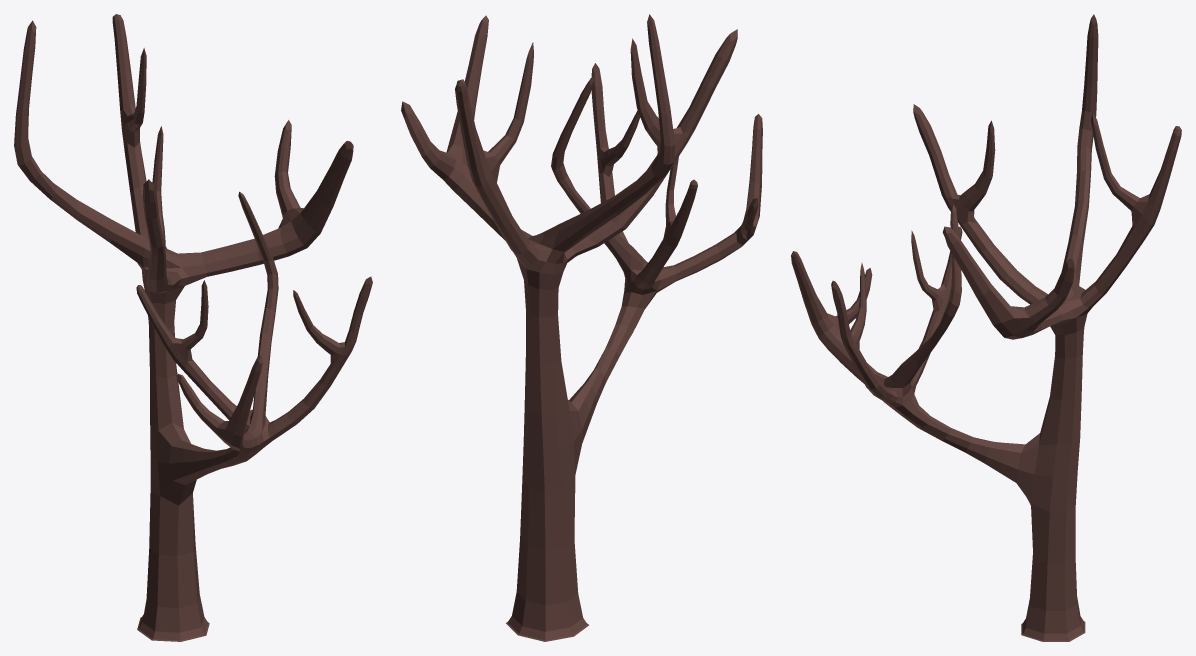
The model's file is CommonTree_Dead_2.gltf.
The picture shows the model from 3 angles, left to right: view 1: azimuth 30°, elevation 25°; view 2: azimuth 150°, elevation 25°; view 3: azimuth 270°, elevation 25°; orthographic projection. The views are drawn at different scales.
Visible parts, largest first — view 1: CommonTree_Dead_2; view 2: CommonTree_Dead_2; view 3: CommonTree_Dead_2.
Part boxes in pixels (box(x1,y1,x2,y2)): CommonTree_Dead_2: box(14, 14, 372, 641); CommonTree_Dead_2: box(401, 14, 762, 641); CommonTree_Dead_2: box(791, 14, 1181, 641).
Bounding box in the file's own units: 1.33 × 2.96 × 1.86.
